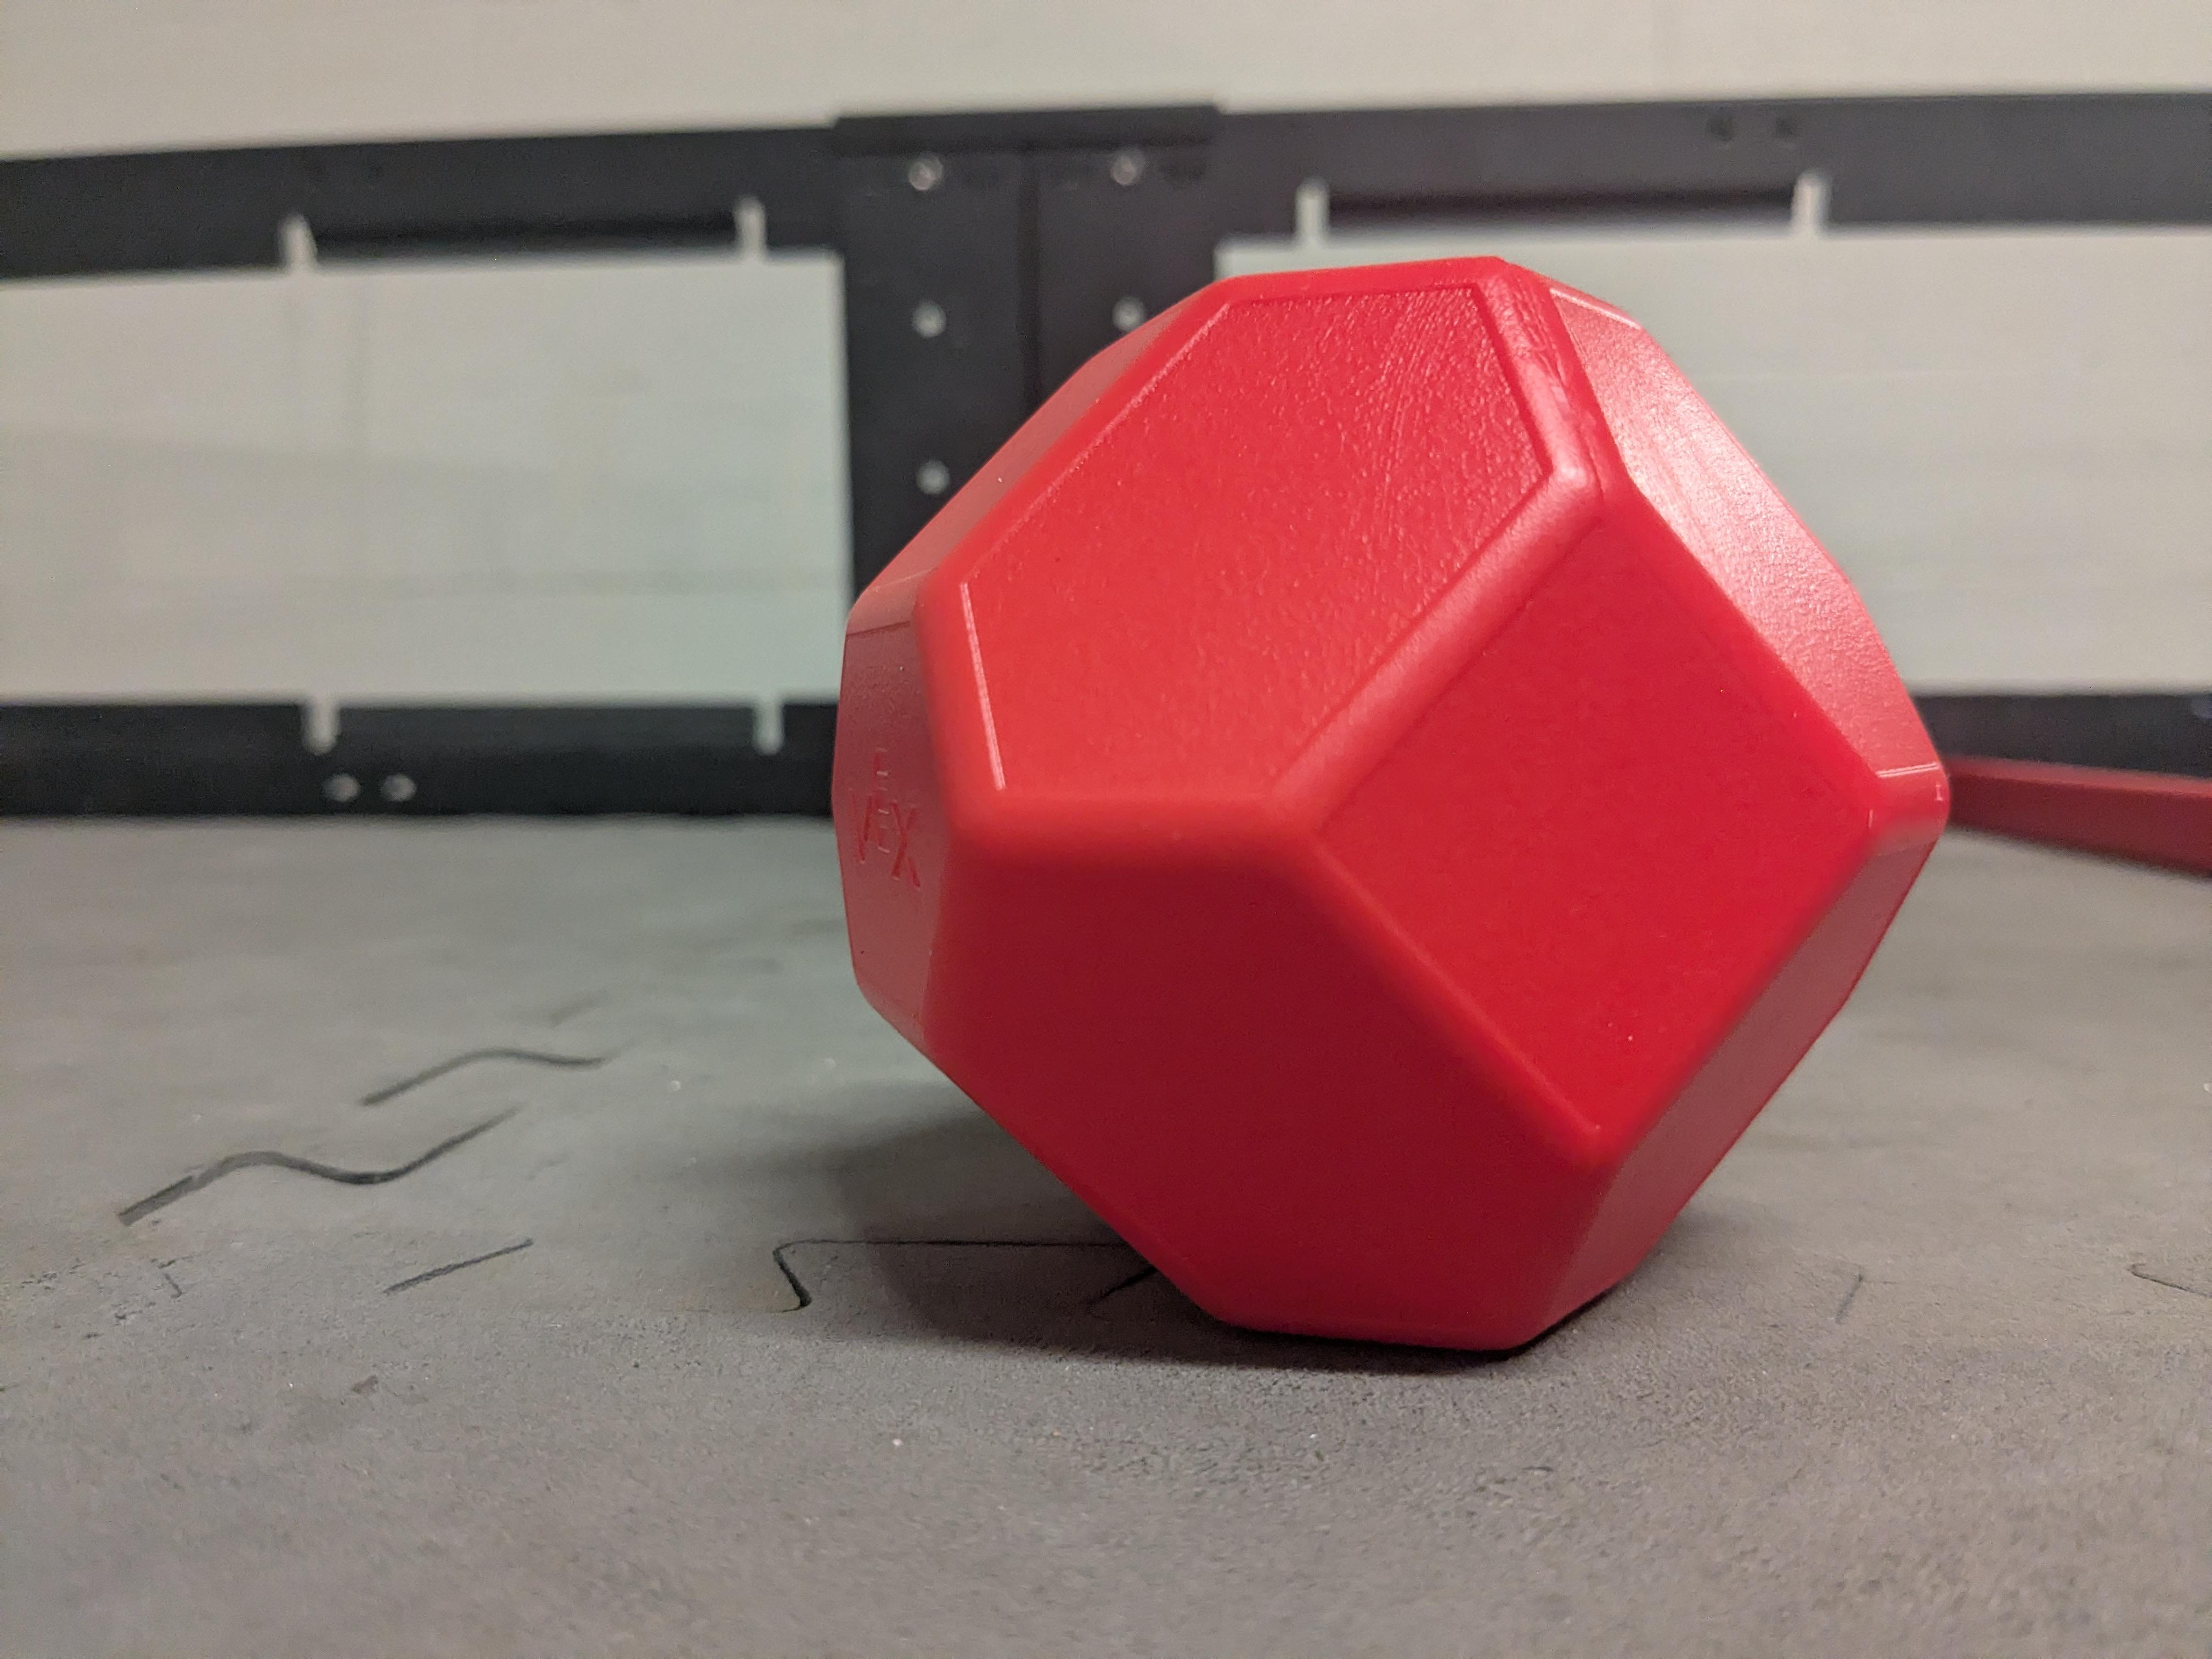Vex-Pieces-RED: (819, 258, 1942, 1330)
